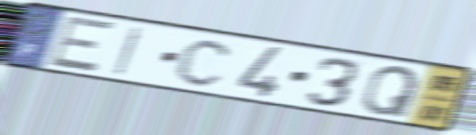3: (306, 56, 363, 109)
4: (232, 44, 286, 100)
C: (173, 37, 237, 88)
E: (45, 14, 120, 75)
I: (110, 24, 147, 78)
Q: (359, 64, 423, 118)
